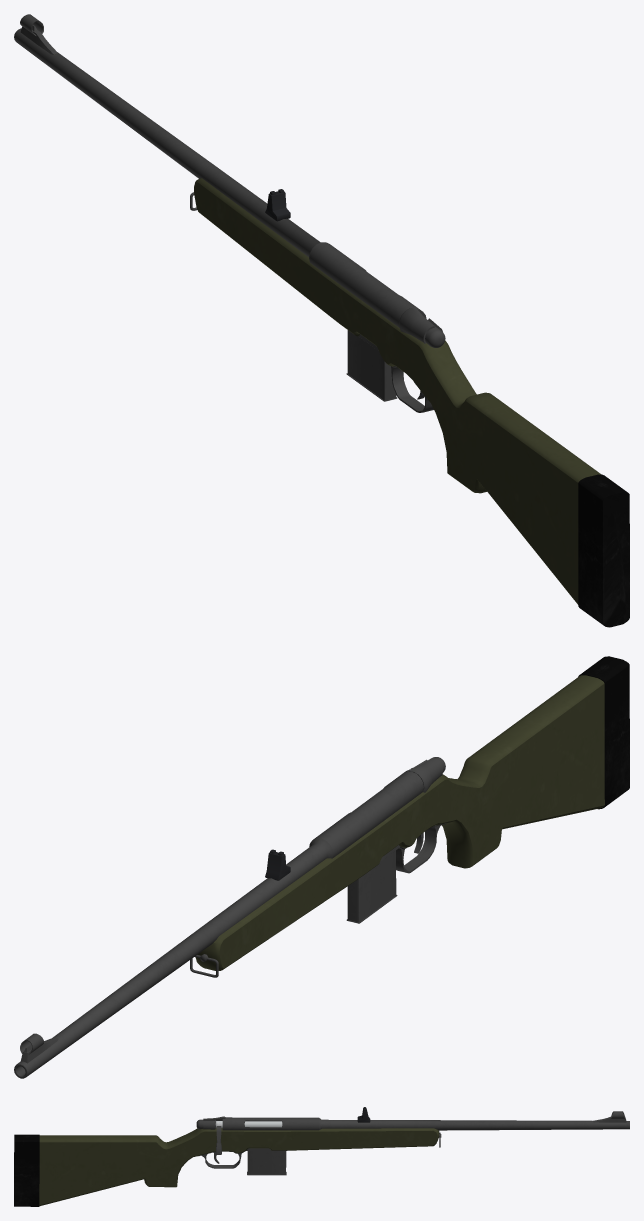
3 renders of one model, top to bottom at view 1: azimuth 30°, elevation 25°; view 2: azimuth 150°, elevation 25°; view 3: azimuth 270°, elevation 25°, orthographic. The views are drawn at different scales.
Visible parts, largest first — view 1: body_m_0, mag_m_2; view 2: body_m_0, mag_m_2; view 3: body_m_0, mag_m_2, bolt_m_1.
Boxes of the visible parts, box(x1,y1,x2,y2) form: body_m_0: box(14, 14, 629, 627); mag_m_2: box(346, 330, 397, 401); body_m_0: box(14, 656, 629, 1078); mag_m_2: box(346, 850, 397, 923); body_m_0: box(14, 1111, 629, 1206); mag_m_2: box(247, 1151, 286, 1175); bolt_m_1: box(196, 1119, 282, 1154).
Bounding box in the file's own units: 0.0504 × 0.1976 × 1.14.
2 materials, 1 textured.
